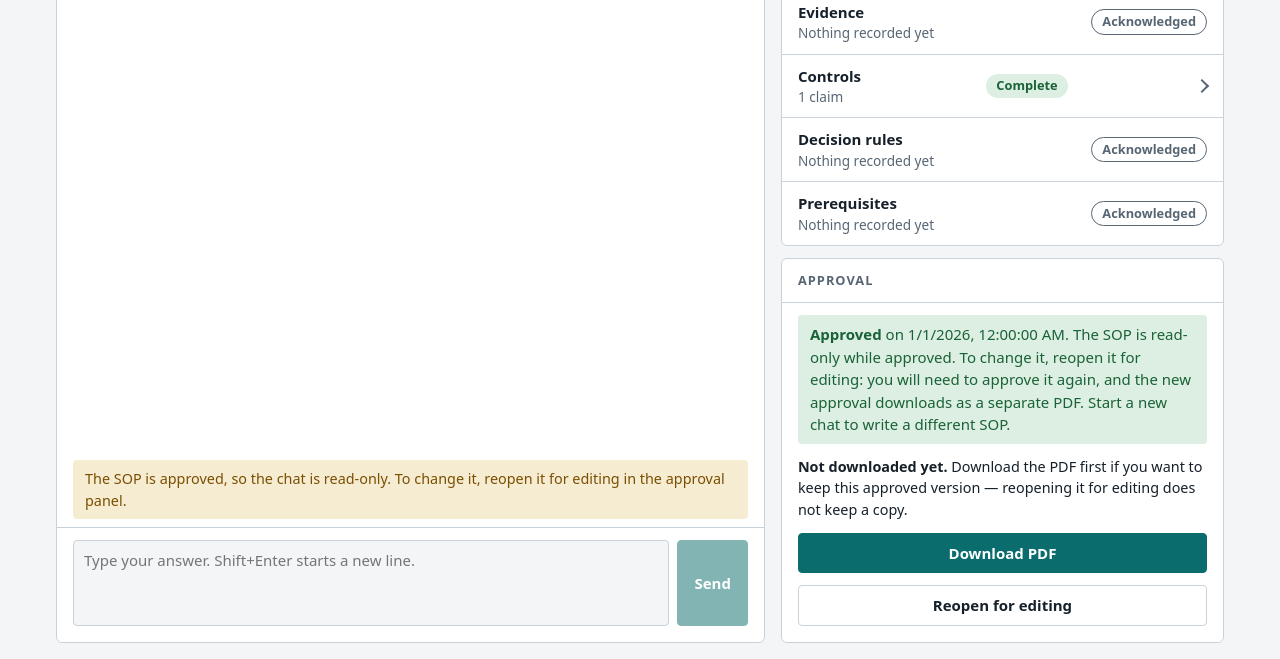
downloading the approved SOP › fetches the PDF, starts the download under the fixed file name, and only then records it
The image size is (1280, 659).
(page scrolled)
Expected: the text "Not downloaded yet." is shown, [798,457,948,476]
Click the button "Download PDF" at (1002, 553), box [798,533,1207,573]
(page scrolled)
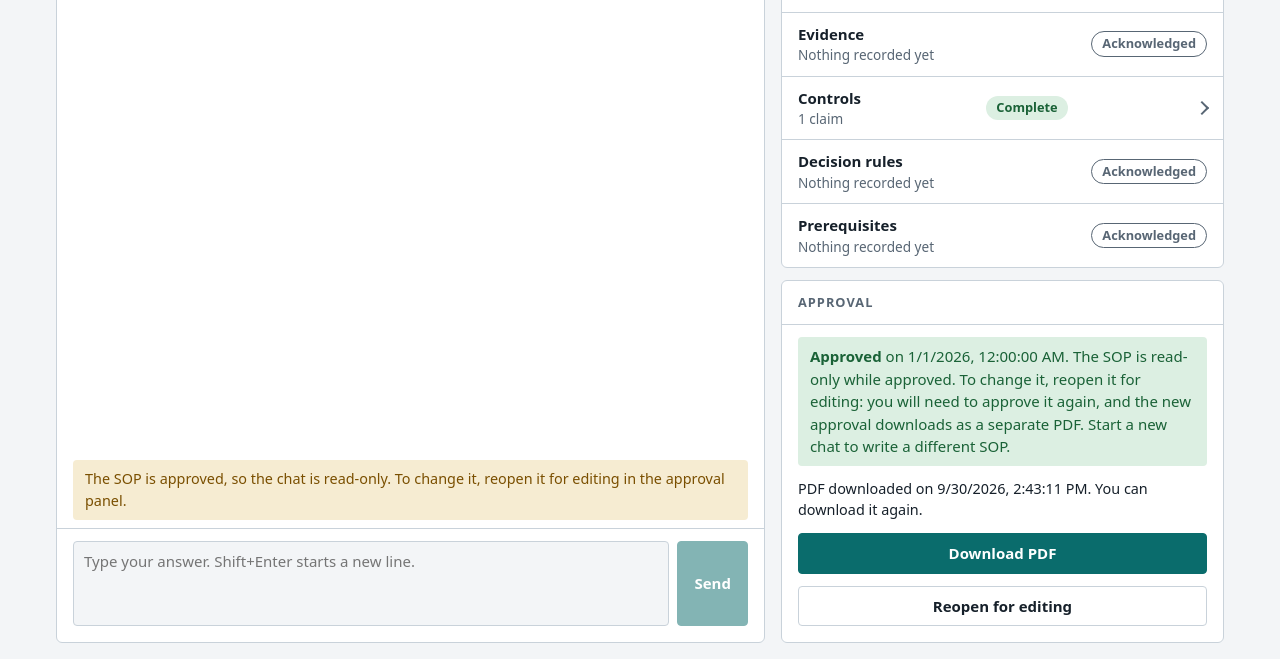
Now the text "PDF downloaded on" is shown, box [798,479,937,498]
Now the text "Not downloaded yet" is gone
